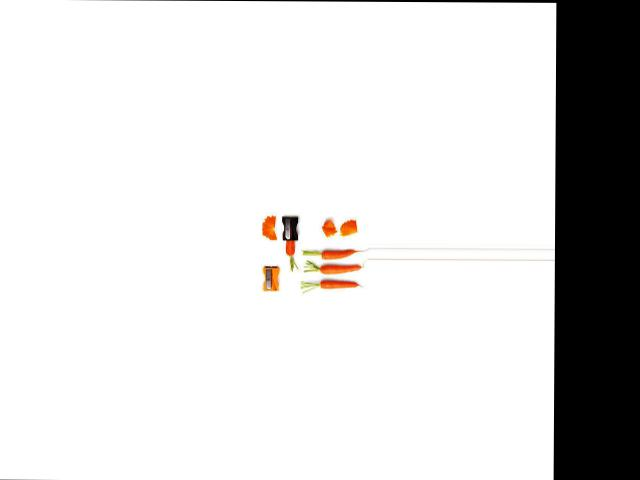carrot: (316, 243, 358, 264)
